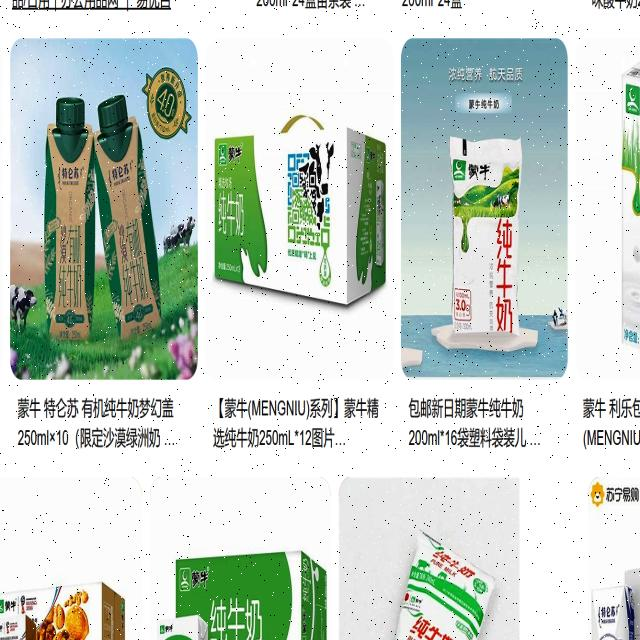mengniu_milk: (449, 145, 522, 222)
